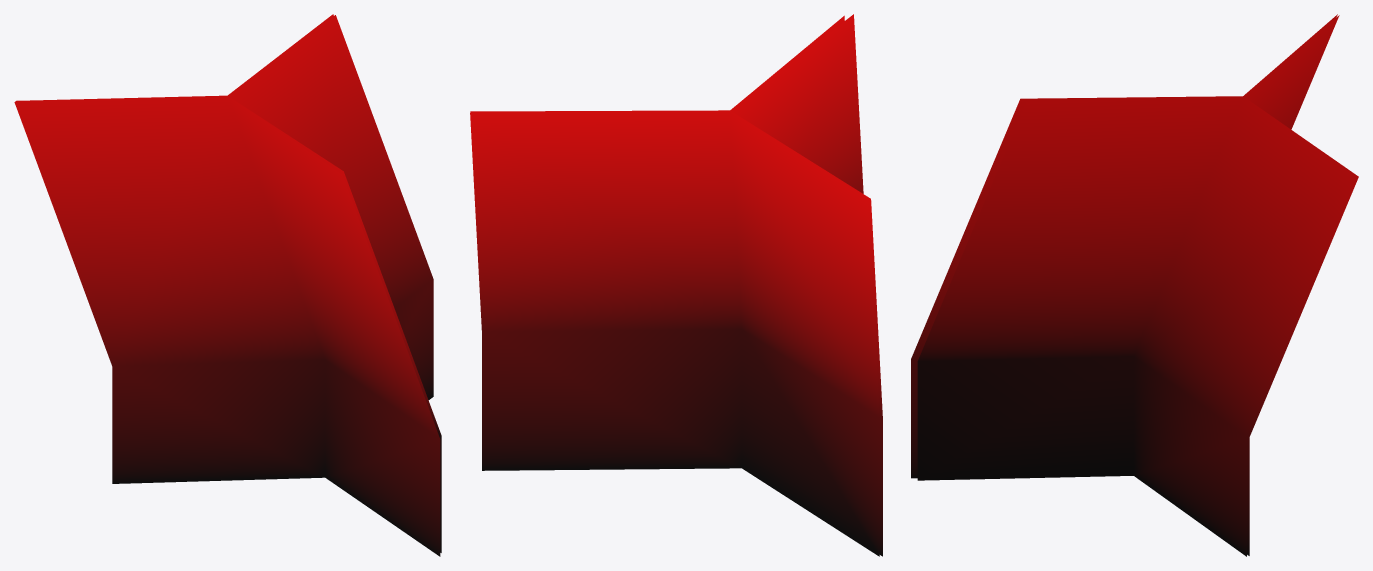
Rendered from SM_Grass_Small_02_a.FBX.
3 renders of one model, left to right at view 1: azimuth 30°, elevation 25°; view 2: azimuth 150°, elevation 25°; view 3: azimuth 270°, elevation 25°, orthographic. The views are drawn at different scales.
Visible parts, largest first — view 1: SM_Grass_Small_02_a_LOD0; view 2: SM_Grass_Small_02_a_LOD0; view 3: SM_Grass_Small_02_a_LOD0.
Part boxes in pixels (box(x1,y1,x2,y2)): SM_Grass_Small_02_a_LOD0: box(14, 14, 441, 556); SM_Grass_Small_02_a_LOD0: box(470, 14, 882, 556); SM_Grass_Small_02_a_LOD0: box(911, 14, 1358, 556).
Size of the model in its own units: 67.03 by 68.57 by 60.46.
